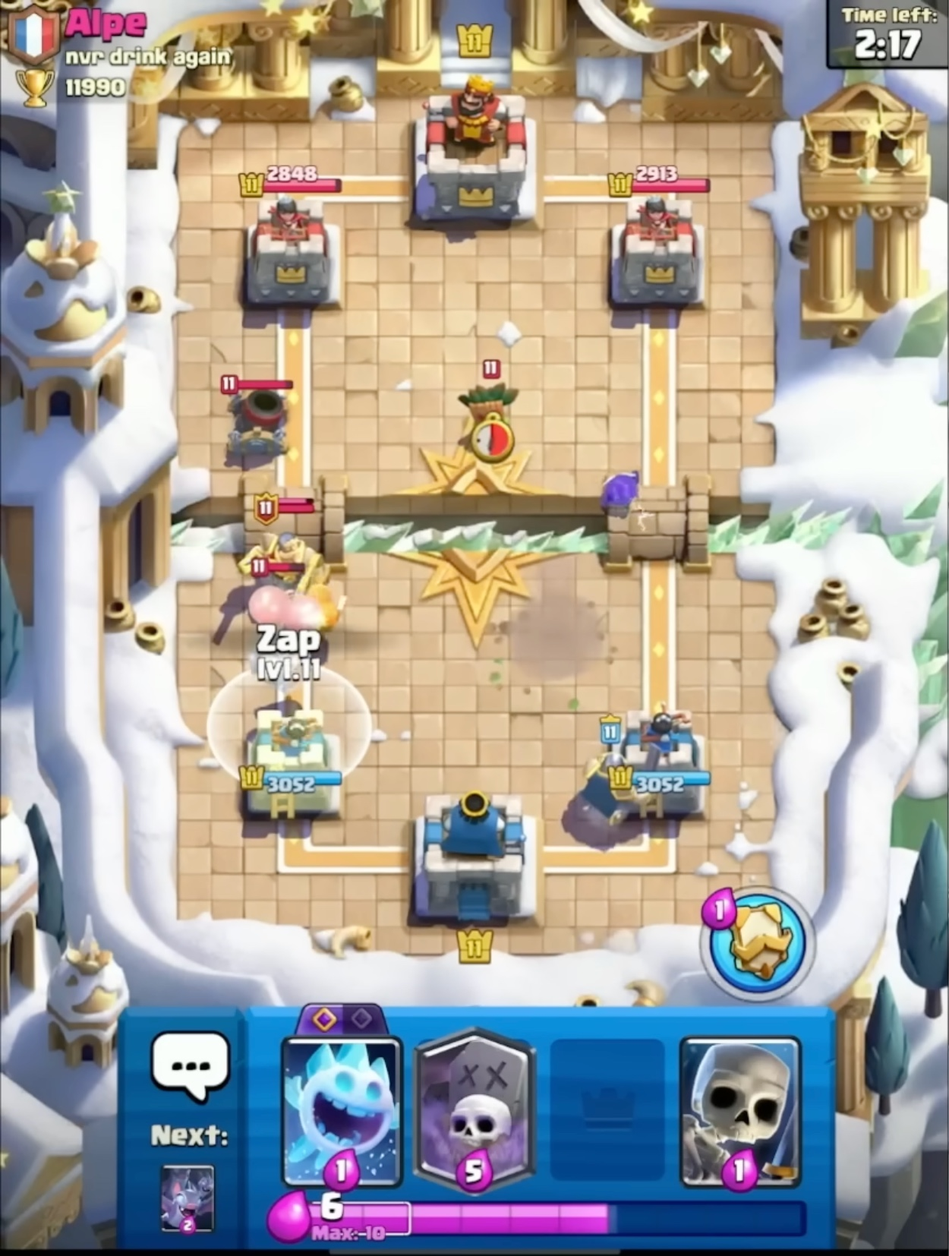dart-goblin: (449, 352, 526, 466)
hero-knight: (233, 495, 345, 610)
mortar: (211, 364, 304, 466)
skeleton-barrel: (240, 557, 331, 699)
